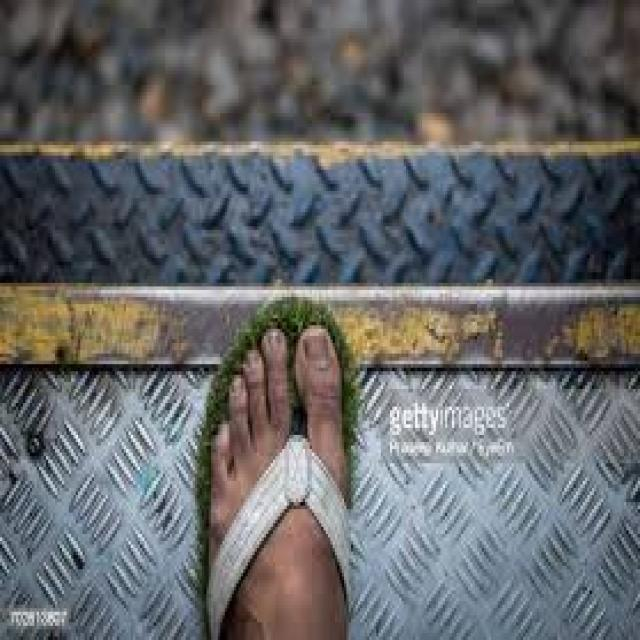No_Shoe: (202, 306, 368, 640)
